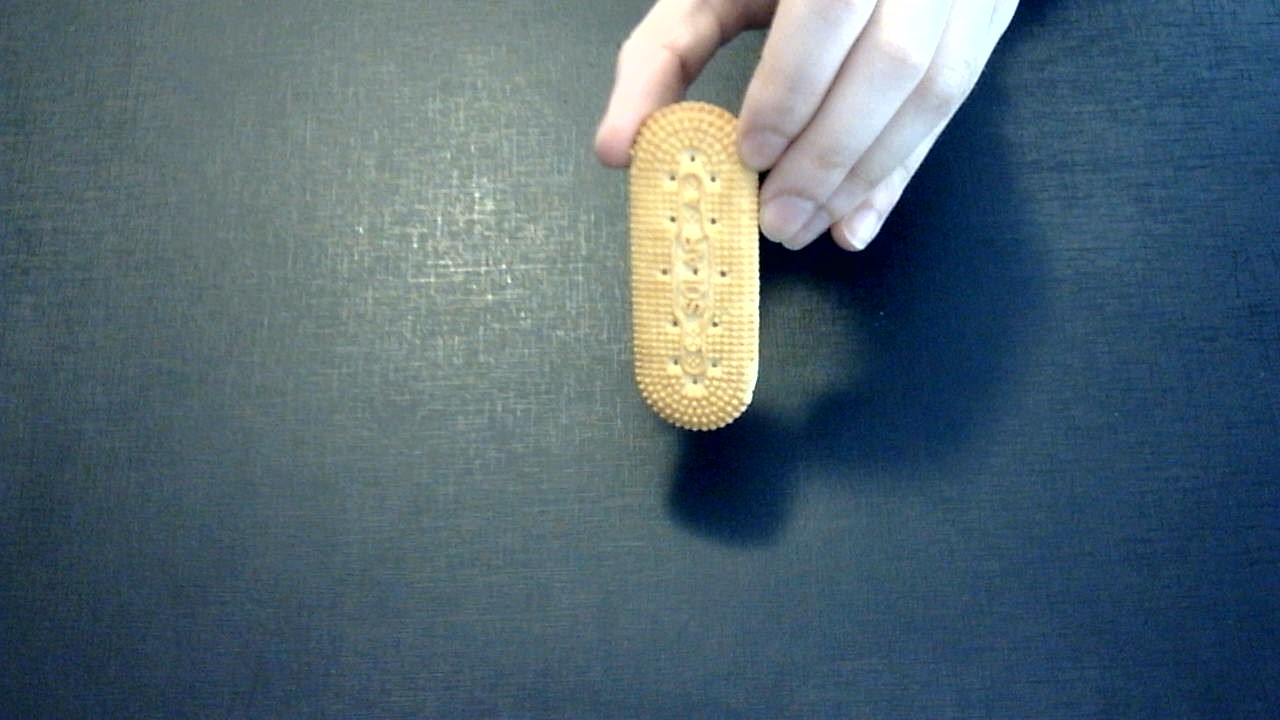solar: (626, 101, 760, 432)
